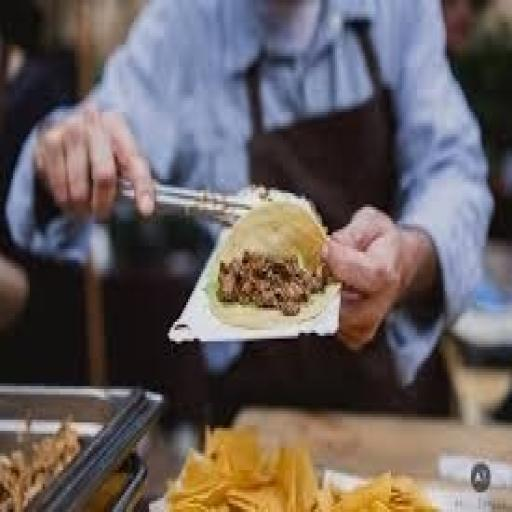eating: (3, 0, 495, 408)
